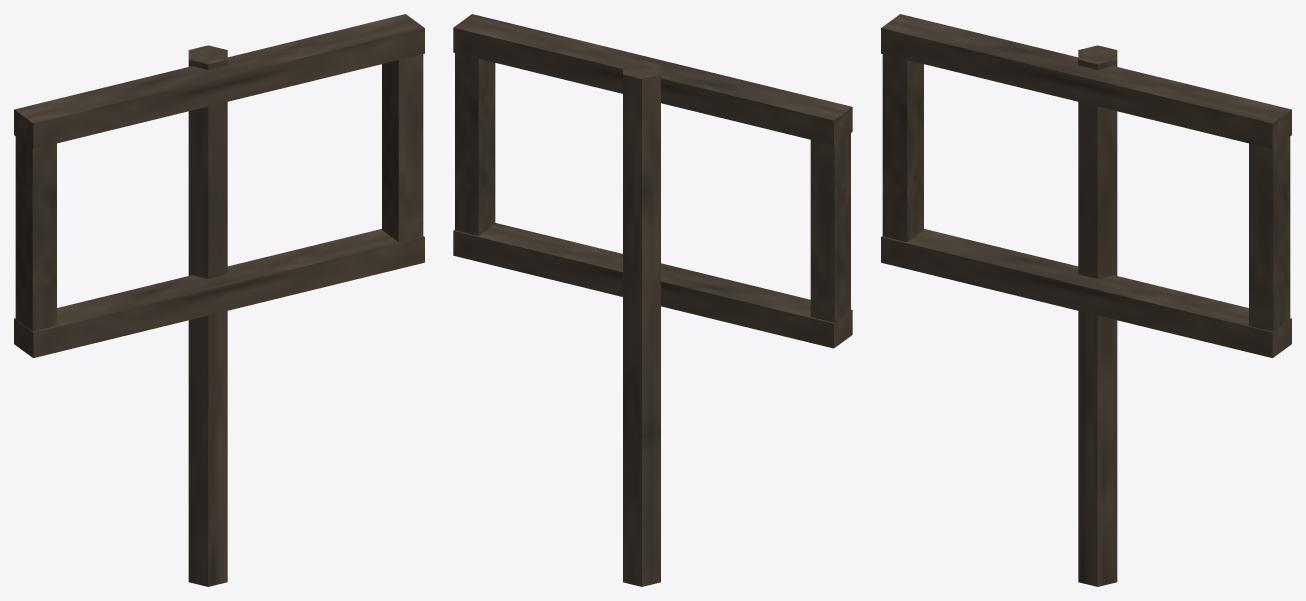
File: SM_Sign_Post.fbx
3 views of the same model, side by side, from view 1: azimuth 30°, elevation 25°; view 2: azimuth 150°, elevation 25°; view 3: azimuth 330°, elevation 25° (orthographic). The views are drawn at different scales.
Parts seen in each view (by area): view 1: SM_Sign_Post; view 2: SM_Sign_Post; view 3: SM_Sign_Post.
Part boxes in pixels (<box>): SM_Sign_Post: <box>14,14,424,586</box>; SM_Sign_Post: <box>453,14,852,586</box>; SM_Sign_Post: <box>881,14,1291,586</box>.
Bounding box in the file's own units: 4 × 5.1 × 0.5432.
1 material, 1 textured.
